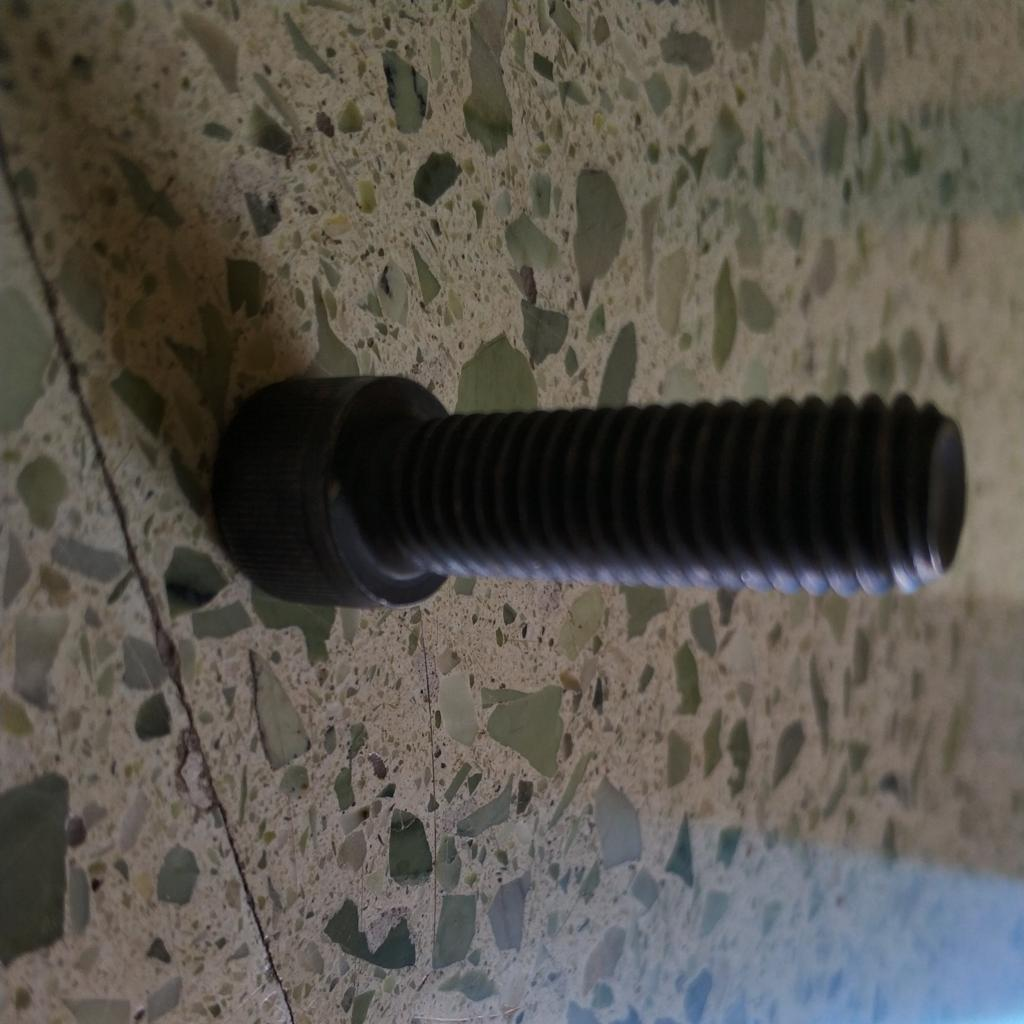screwtype1black: (209, 357, 969, 635)
